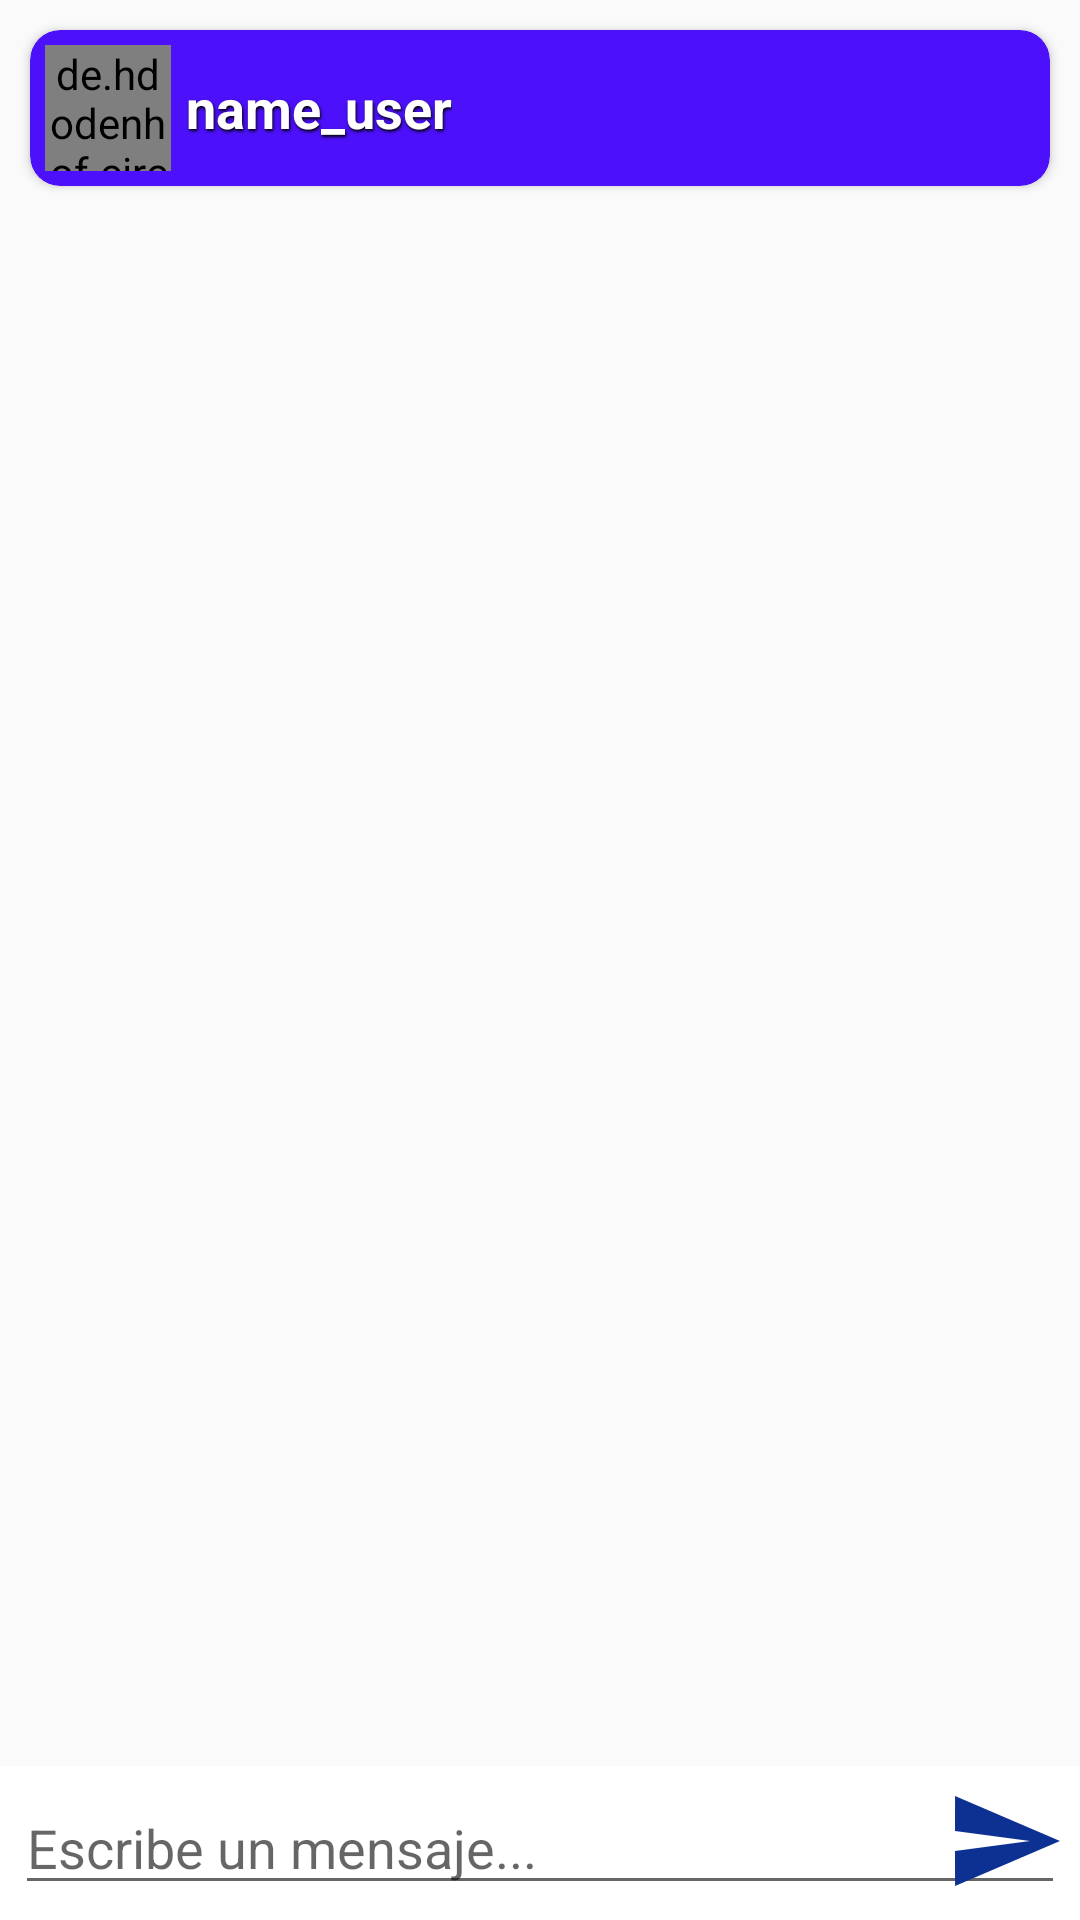

Screen size 1080 x 1920. Icon name, then its box in pixels as (x1, y1, x2, y2):
send sms: (945, 1796, 1060, 1886)
